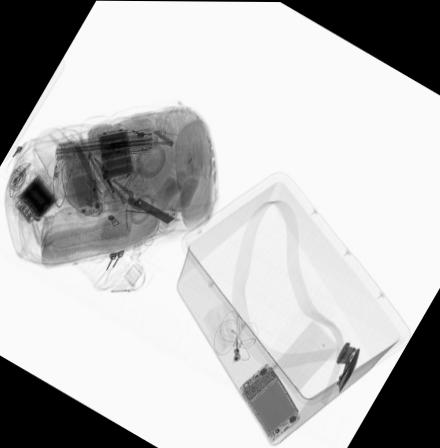Knife: (131, 196, 175, 224)
